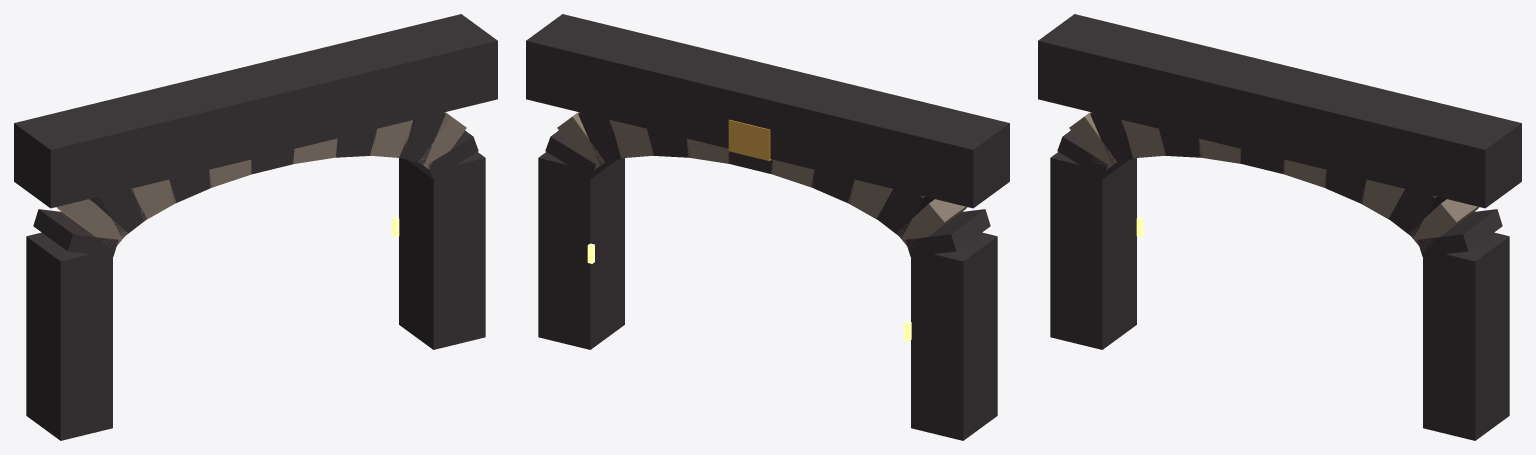
Rendered from tunnel_portal.glb.
3 renders of one model, left to right at view 1: azimuth 30°, elevation 25°; view 2: azimuth 150°, elevation 25°; view 3: azimuth 330°, elevation 25°, orthographic.
Visible parts, largest first — view 1: LOD0; view 2: LOD0; view 3: LOD0.
Boxes of the visible parts, x1,y1,x2,y2 form: LOD0: (14, 14, 497, 440); LOD0: (526, 14, 1009, 440); LOD0: (1038, 14, 1521, 440).
Size of what is drawn, in the model's own units: 24 by 15.1 by 3.53.
